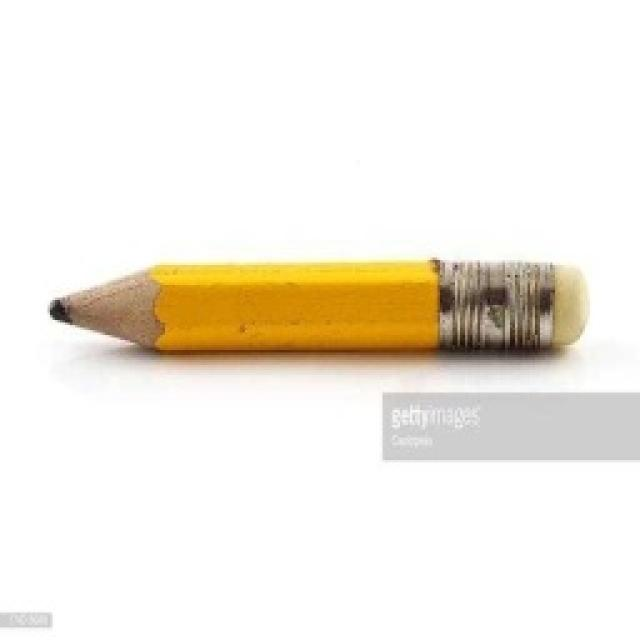pencil: (45, 255, 590, 357)
